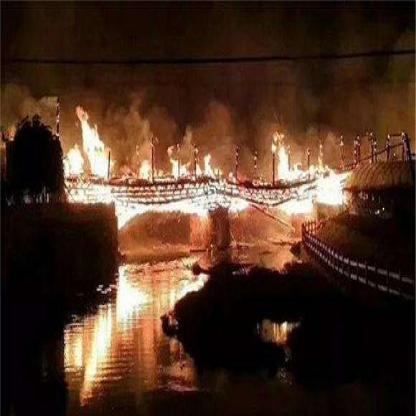fire: (62, 102, 350, 223)
